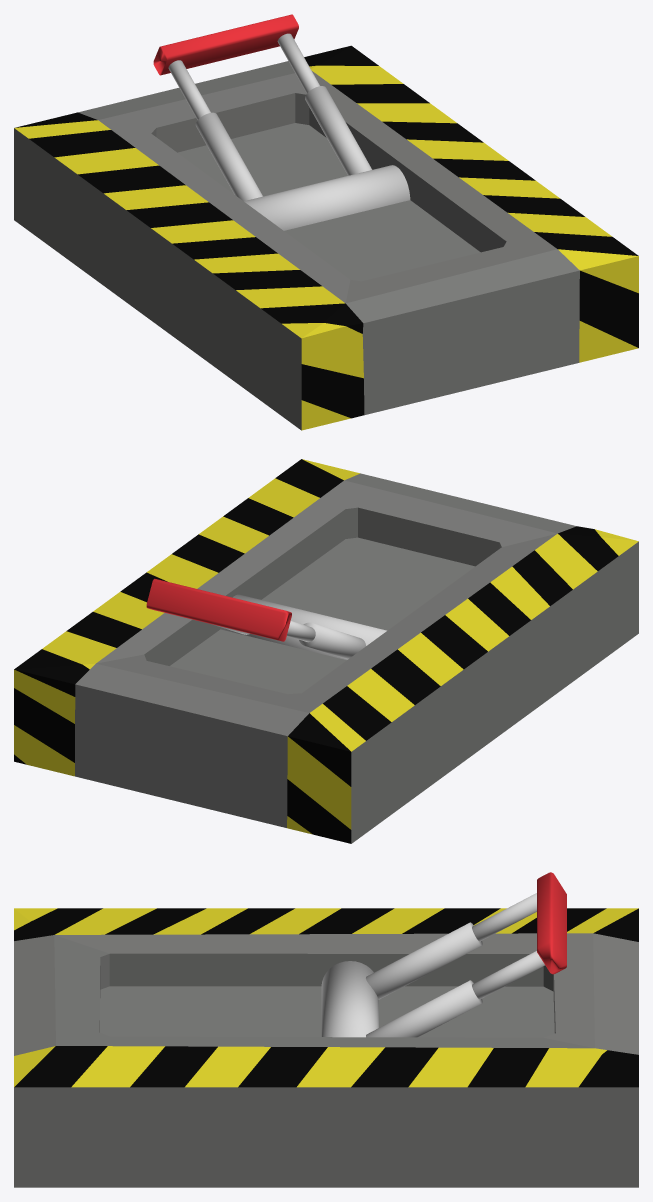
File: lever.fbx
The picture shows the model from 3 angles, top to bottom: view 1: azimuth 30°, elevation 25°; view 2: azimuth 150°, elevation 25°; view 3: azimuth 270°, elevation 25°; orthographic projection. The views are drawn at different scales.
Visible parts, largest first — view 1: Cube, Cylinder, Cube.001; view 2: Cube, Cube.001, Cylinder; view 3: Cube, Cylinder, Cube.001.
Part boxes in pixels (<box>): Cube: <box>14,45,638,430</box>; Cylinder: <box>168,33,410,230</box>; Cube.001: <box>153,14,298,75</box>; Cube: <box>14,459,638,843</box>; Cube.001: <box>146,578,291,641</box>; Cylinder: <box>212,594,386,659</box>; Cube: <box>14,908,638,1187</box>; Cylinder: <box>321,893,544,1037</box>; Cube.001: <box>537,872,566,974</box>.
Size of the model in its own units: 88.34 by 44.33 by 130.
